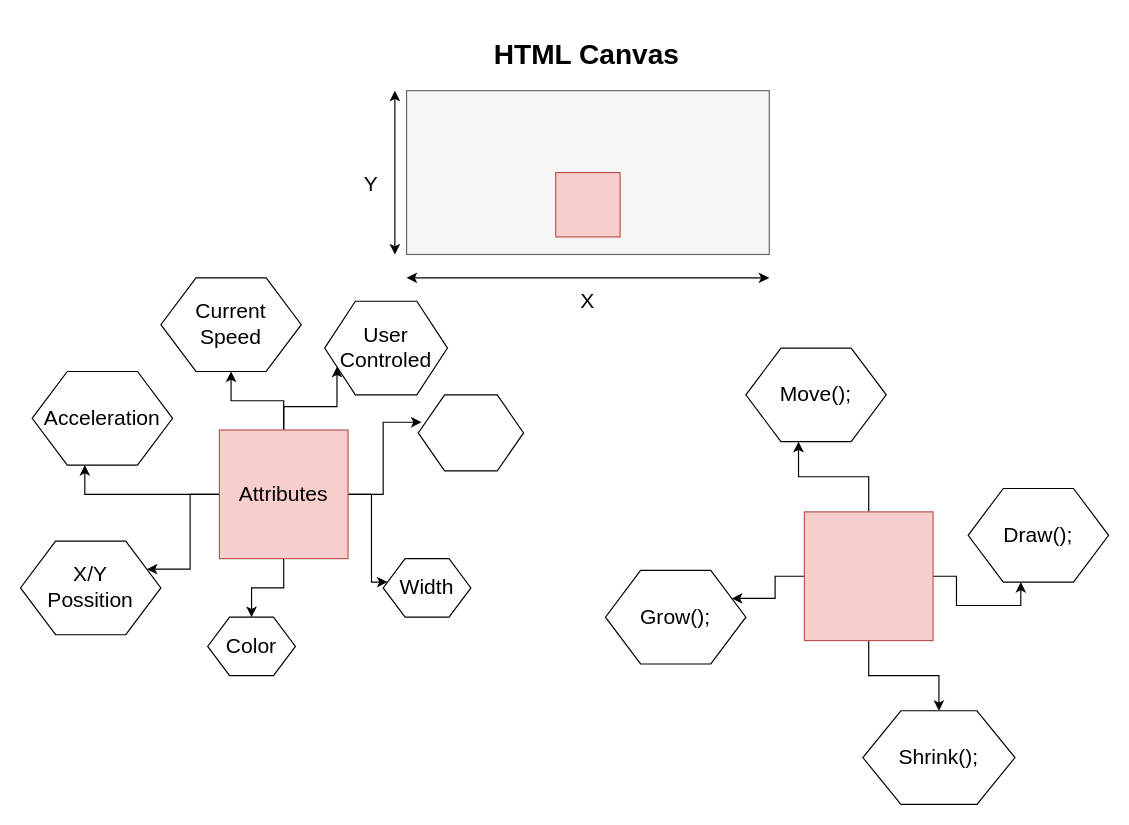
Image size: 1129x825. Some labels were removed from this diagram. Here are the shapes that lost their labels. From the top down, the centre of each, then its label:
At pixel 587 204: "OBJECT".
At pixel 470 432: "HEIGHT".
At pixel 868 576: "Functions".
